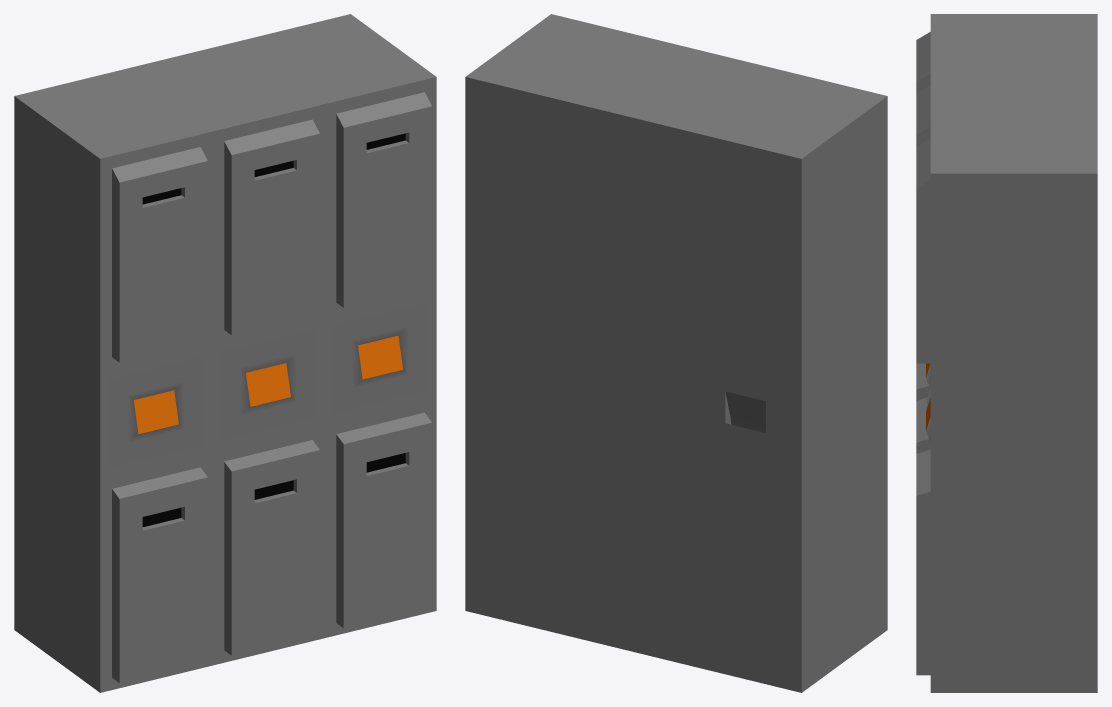
Rendered from locker.fbx.
3 views of the same model, side by side, from view 1: azimuth 30°, elevation 25°; view 2: azimuth 150°, elevation 25°; view 3: azimuth 270°, elevation 25° (orthographic). The views are drawn at different scales.
Visible parts, largest first — view 1: pCube1; view 2: pCube1; view 3: pCube1.
Boxes of the visible parts, x1,y1,x2,y2 form: pCube1: (14,14,436,692); pCube1: (465,14,887,692); pCube1: (916,14,1097,692).
Size of the model in its own units: 71.95 by 109 by 34.58.
